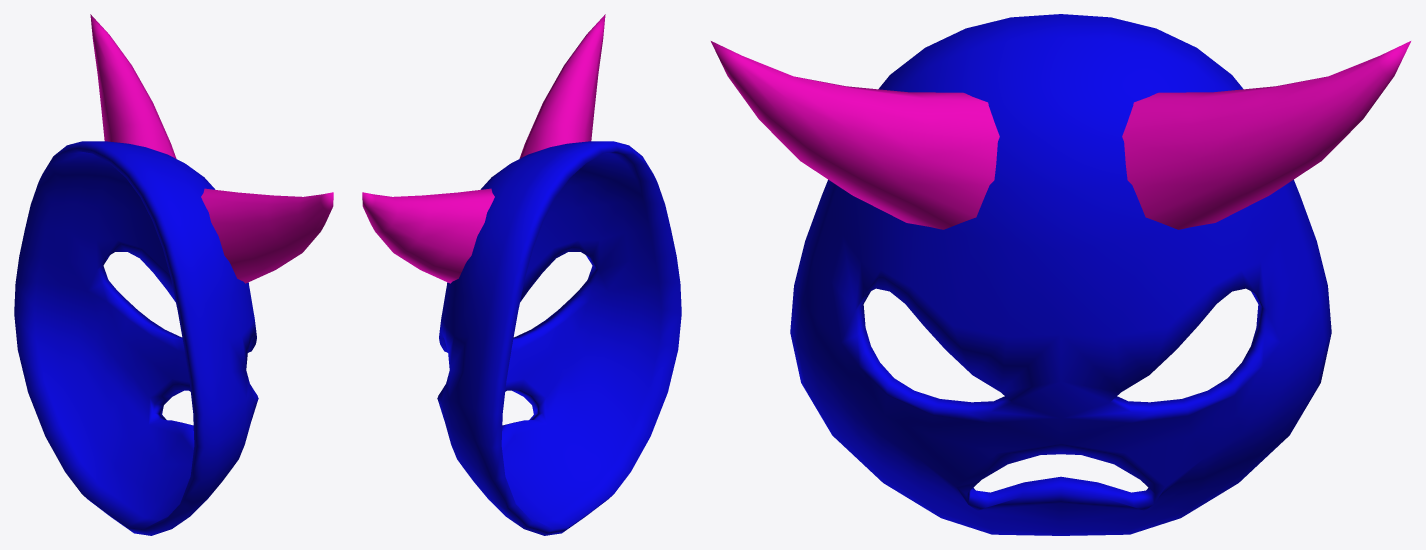
The model's file is HatredEnemyMask.fbx.
3 renders of one model, left to right at view 1: azimuth 30°, elevation 25°; view 2: azimuth 150°, elevation 25°; view 3: azimuth 270°, elevation 25°, orthographic. The views are drawn at different scales.
Parts seen in each view (by area): view 1: HatredMask; view 2: HatredMask; view 3: HatredMask.
Boxes of the visible parts, x1,y1,x2,y2 form: HatredMask: (14, 14, 333, 535); HatredMask: (362, 14, 681, 535); HatredMask: (711, 14, 1410, 535).
Size of the model in its own units: 23.78 by 71.05 by 80.47.
